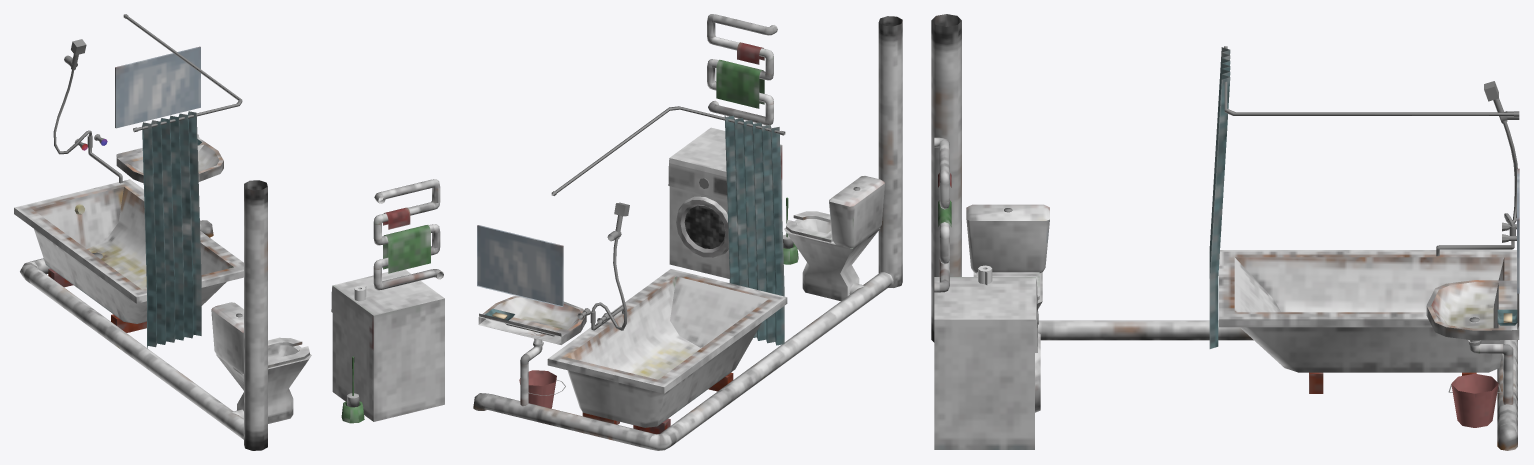
File: BathRoom.fbx
The picture shows the model from 3 angles, left to right: view 1: azimuth 30°, elevation 25°; view 2: azimuth 150°, elevation 25°; view 3: azimuth 270°, elevation 25°; orthographic projection. The views are drawn at different scales.
Visible parts, largest first — view 1: Bath, WashingMachine, Bath_Stick_Shield, Tube, Mirror, Toilet, Bath_Battary, Bath_Tryapka_1, Sink, Shower, Bath_Stick, Bath_Tryapka_2; view 2: Bath, Tube, Bath_Stick_Shield, WashingMachine, Toilet, Mirror, Sink, Bath_Battary, Bath_Tryapka_1, Shower, Bucket, Bath_Stick (+1 smaller); view 3: Bath, WashingMachine, Tube, Sink, Toilet, Bath_Stick_Shield, Bucket, Bath_Battary, Bath_Stick, Shower.
Part boxes in pixels (x1,y1,x2,y2): Bath: (14, 179, 243, 332); WashingMachine: (331, 269, 444, 421); Bath_Stick_Shield: (142, 111, 201, 348); Tube: (20, 180, 267, 450); Mirror: (115, 46, 200, 128); Toilet: (211, 302, 311, 423); Bath_Battary: (373, 179, 443, 290); Bath_Tryapka_1: (383, 225, 430, 273); Sink: (116, 134, 223, 183); Shower: (53, 39, 101, 154); Bath_Stick: (123, 14, 242, 132); Bath_Tryapka_2: (383, 207, 410, 229); Bath: (547, 269, 787, 434); Tube: (473, 16, 902, 450); Bath_Stick_Shield: (724, 114, 784, 345); WashingMachine: (668, 127, 782, 278); Toilet: (784, 176, 884, 300); Mirror: (477, 225, 563, 306); Sink: (478, 296, 586, 406); Bath_Battary: (707, 14, 777, 125); Bath_Tryapka_1: (716, 59, 764, 108); Shower: (577, 202, 629, 330); Bucket: (519, 370, 556, 408); Bath_Stick: (551, 106, 785, 195); Bath: (1219, 250, 1516, 393); WashingMachine: (934, 277, 1040, 449); Tube: (931, 14, 1517, 450); Sink: (1426, 280, 1519, 404); Toilet: (966, 204, 1049, 308); Bath_Stick_Shield: (1209, 47, 1230, 348); Bucket: (1451, 373, 1498, 427); Bath_Battary: (934, 137, 949, 292); Bath_Stick: (1224, 46, 1519, 116); Shower: (1484, 81, 1519, 240).
Bounding box in the file's own units: 2.76 × 3.5 × 5.84.
